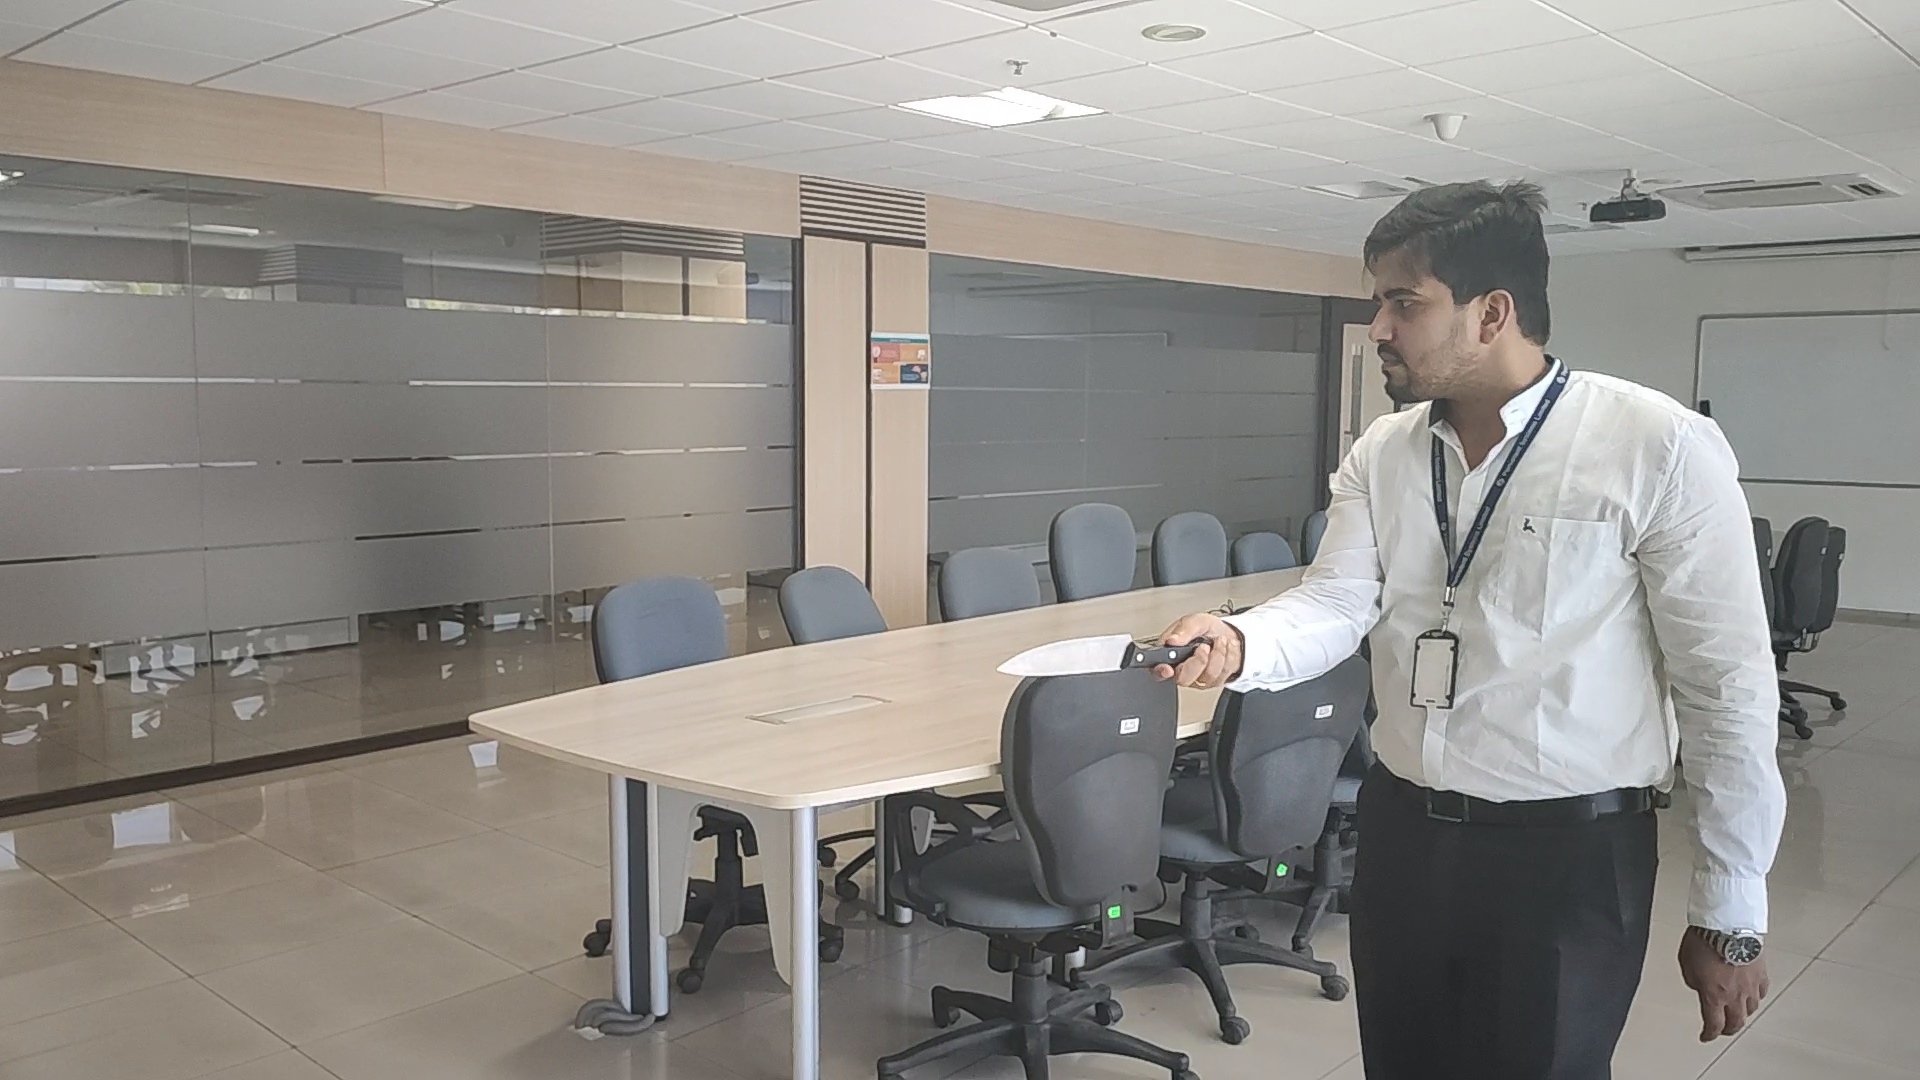knife: (1000, 630, 1182, 678)
